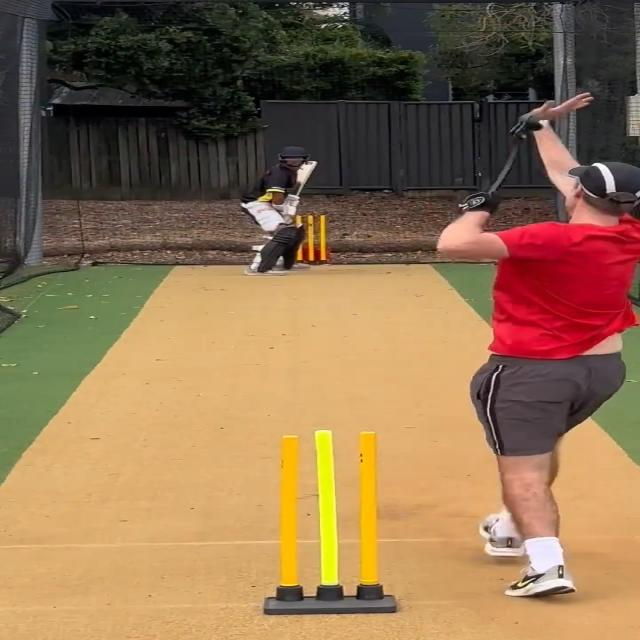stump: (263, 431, 397, 616), (296, 214, 330, 266)
